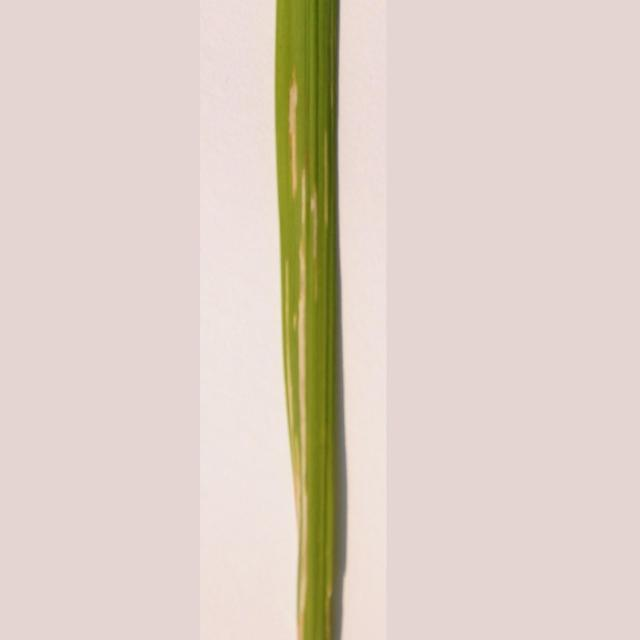Bacterial leaf blight: (288, 193, 329, 640), (282, 68, 300, 198)
